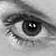eye: (22, 22, 42, 36)
